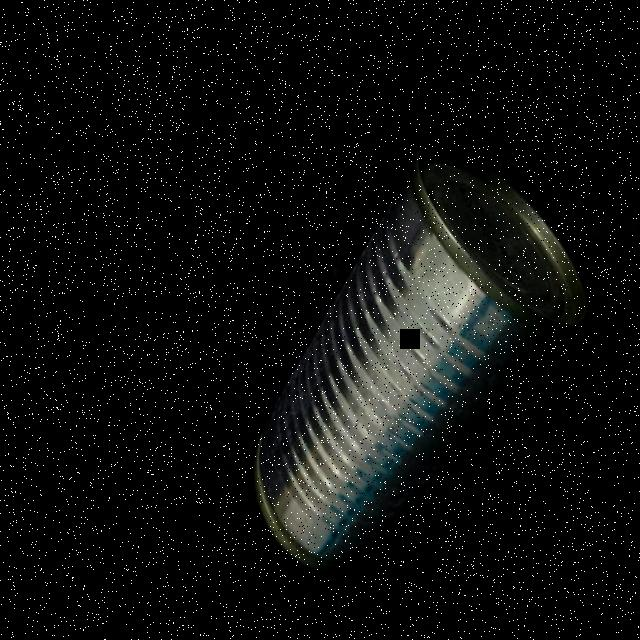can: (227, 114, 620, 616)
